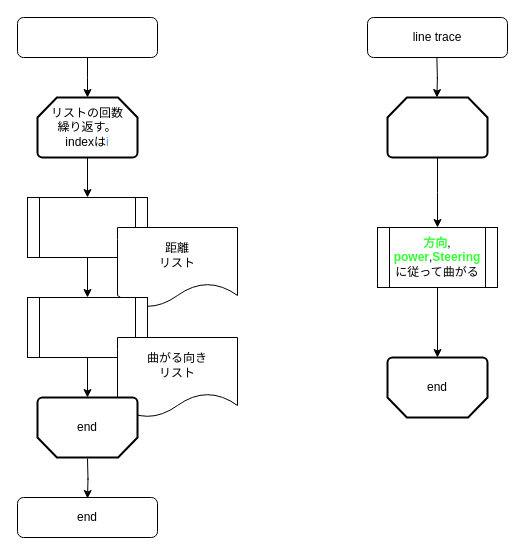
This 525x555 diagram has some shape labels left out. The shapes that lost their labels are listed below. From the top down, each one's box as (x1, y1, x2, y2) in pixels, then its label:
(16, 16, 158, 58): maze
(386, 96, 488, 158): n 秒まで繰り返す
(26, 196, 148, 258): 距離リスト i 番目だけ進む
(26, 296, 148, 358): 曲がる向きリスト i 番目の方向に90度曲がる
